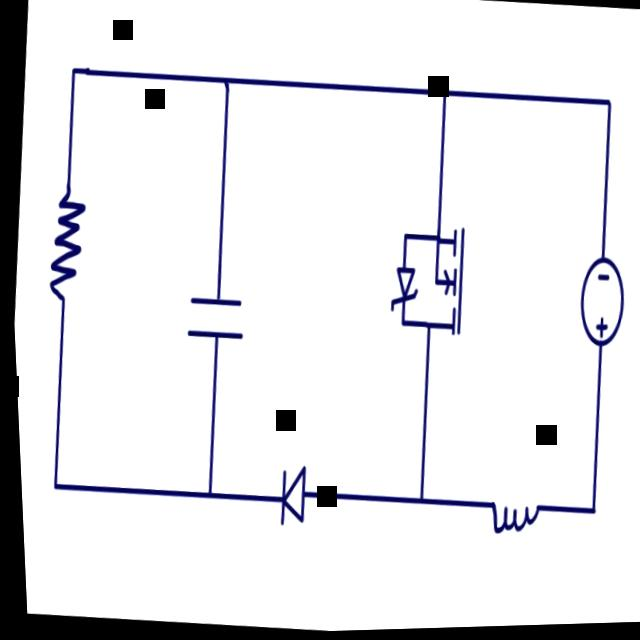capacitor: (170, 258, 247, 367)
diode: (265, 453, 308, 550), (375, 251, 419, 315)
inductor: (469, 469, 542, 562)
mosfet: (405, 207, 477, 352)
resistor: (34, 157, 95, 324)
source: (560, 231, 636, 382)
